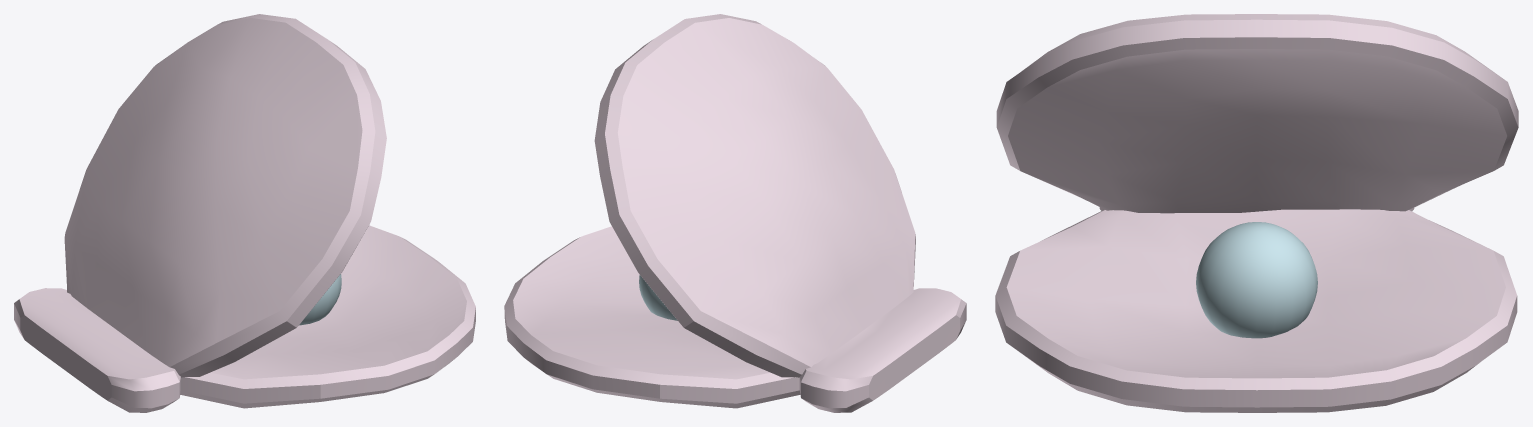
Rendered from SM_Clam_Pearl.fbx.
3 views of the same model, side by side, from view 1: azimuth 30°, elevation 25°; view 2: azimuth 150°, elevation 25°; view 3: azimuth 270°, elevation 25° (orthographic). The views are drawn at different scales.
Visible parts, largest first — view 1: SM_ClamPearl; view 2: SM_ClamPearl; view 3: SM_ClamPearl.
Part boxes in pixels (x1=…): SM_ClamPearl: x1=14, y1=14, x2=475, y2=412; SM_ClamPearl: x1=504, y1=14, x2=966, y2=412; SM_ClamPearl: x1=995, y1=14, x2=1518, y2=412.
Size of the model in its own units: 52.91 by 41.47 by 52.73.
